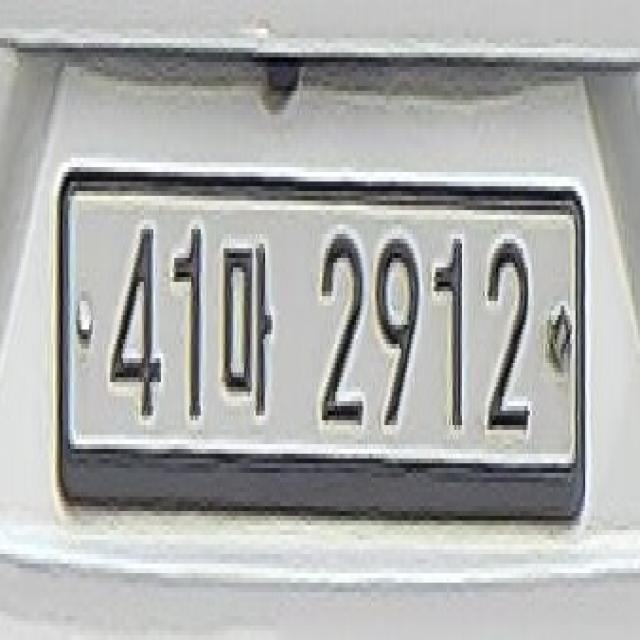1: (172, 215, 210, 430), (436, 229, 470, 435)
2: (314, 229, 366, 435), (487, 230, 530, 440)
4: (110, 215, 167, 425)
9: (373, 229, 420, 425)
license_plate: (57, 167, 585, 506)
ma: (222, 234, 274, 420)
